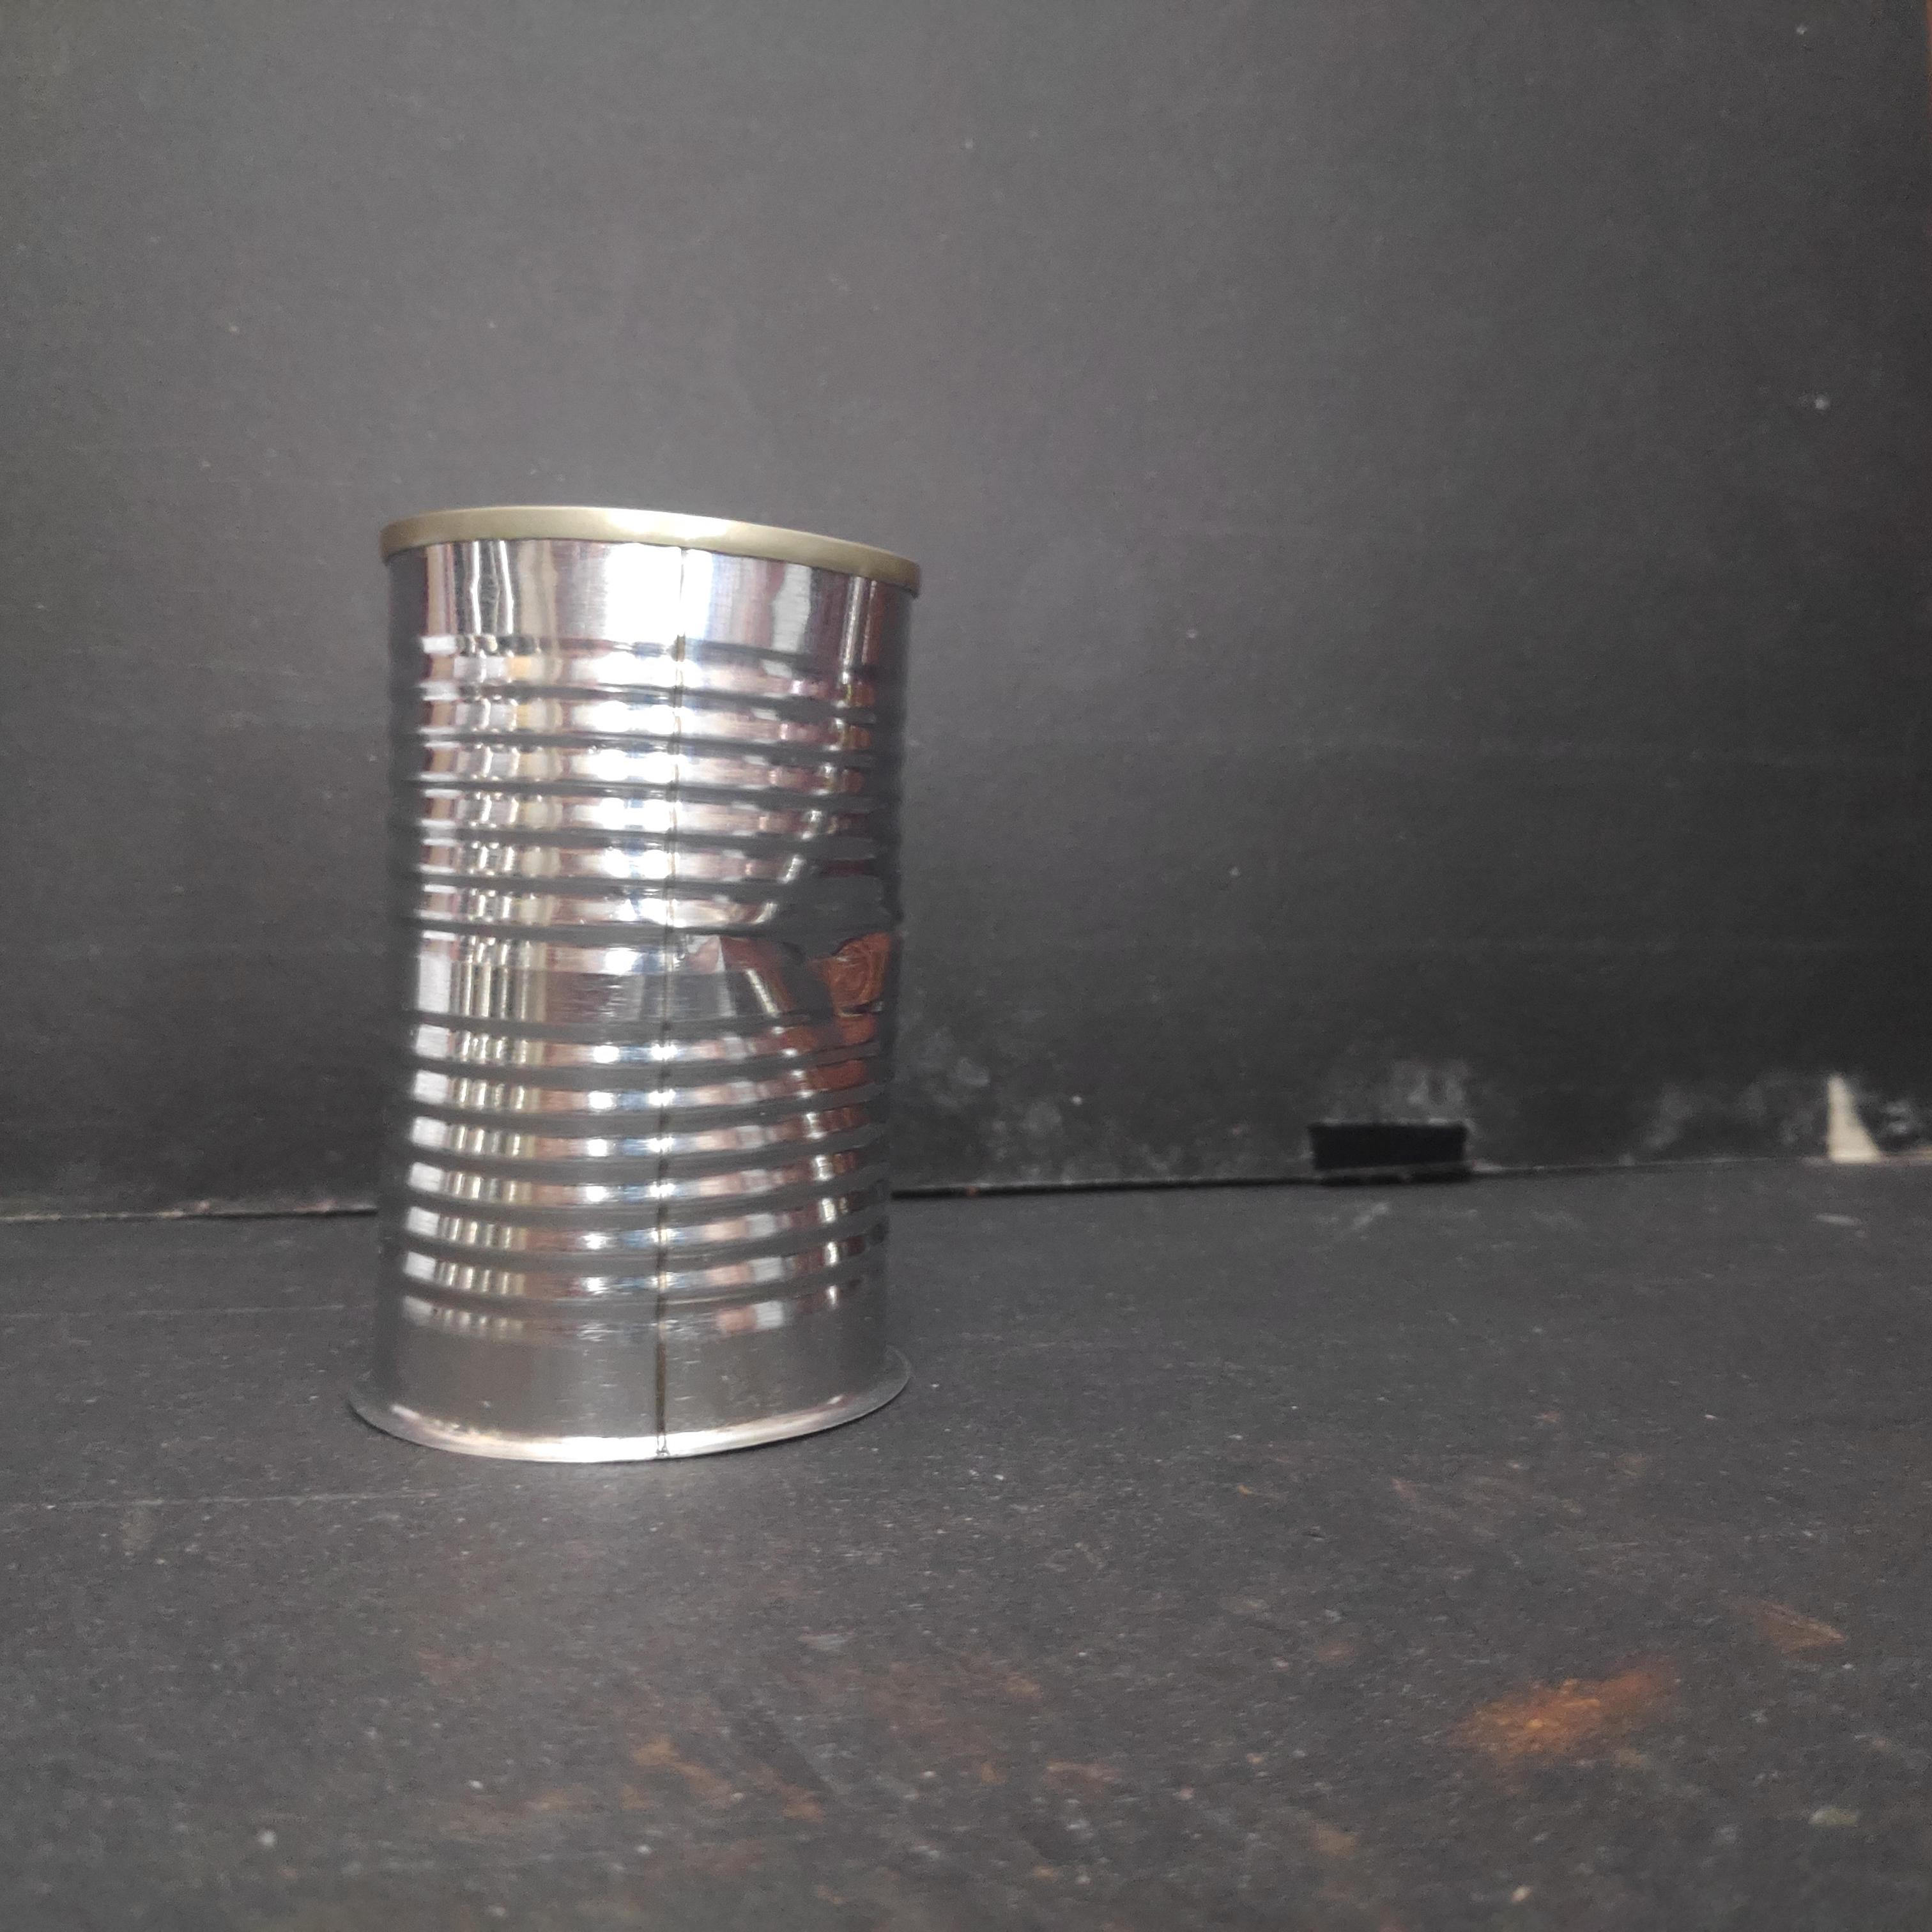Minor Defect: (365, 486, 926, 1476)
